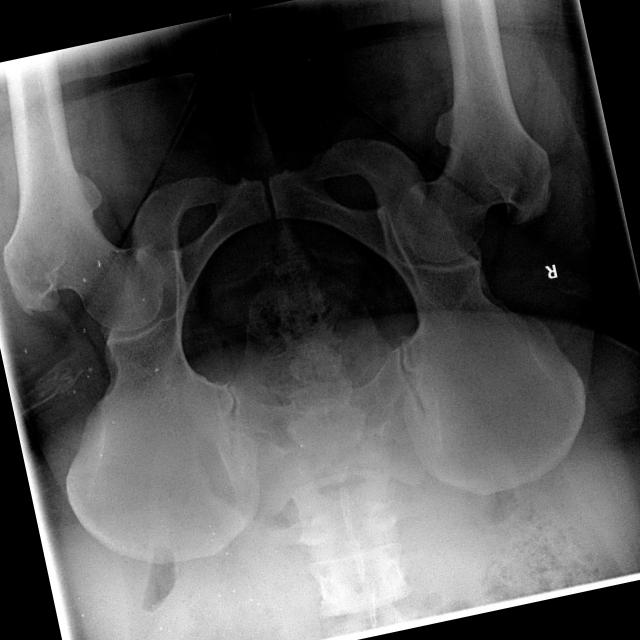normal-left: (2, 93, 164, 331)
normal-right: (396, 0, 551, 261)
